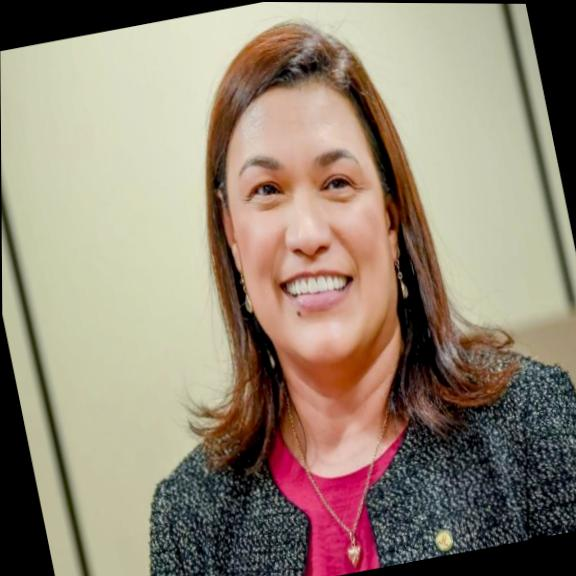no_safety_vest: (91, 308, 576, 576)
